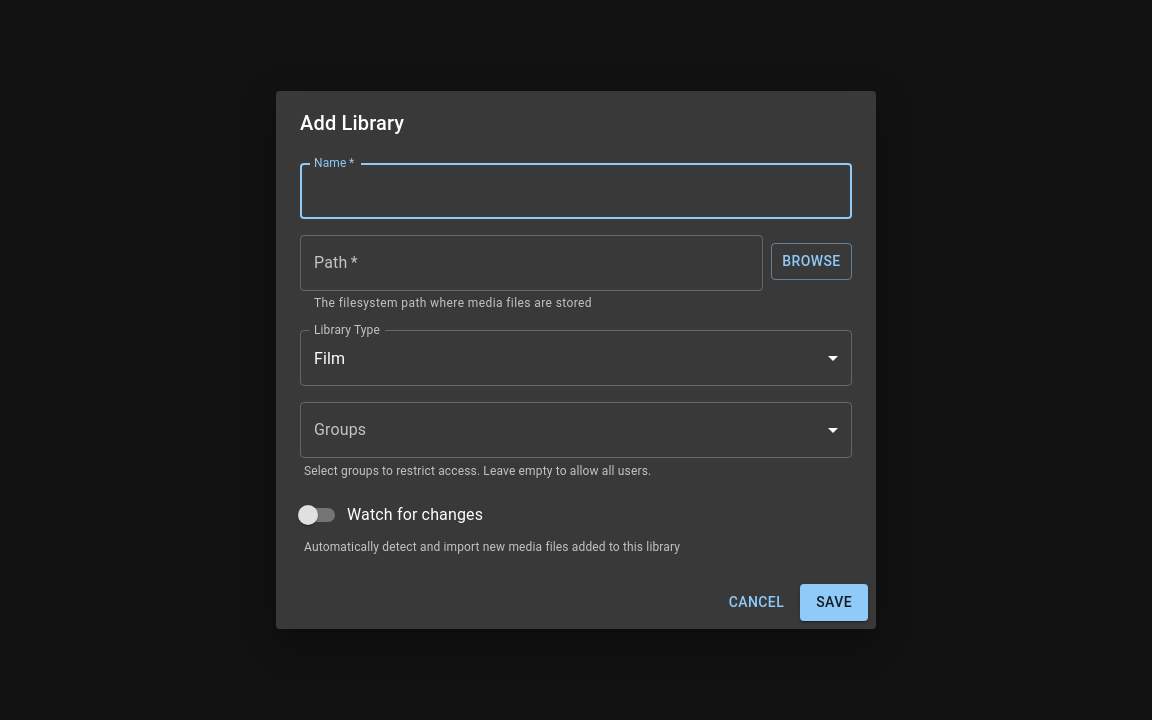
it: LibraryDialog › Create mode › shows validation error when path is empty
This screenshot has width=1152, height=720.
In the field labelled "Name *": x=576, y=191 [300,163,852,219], type "Movies"
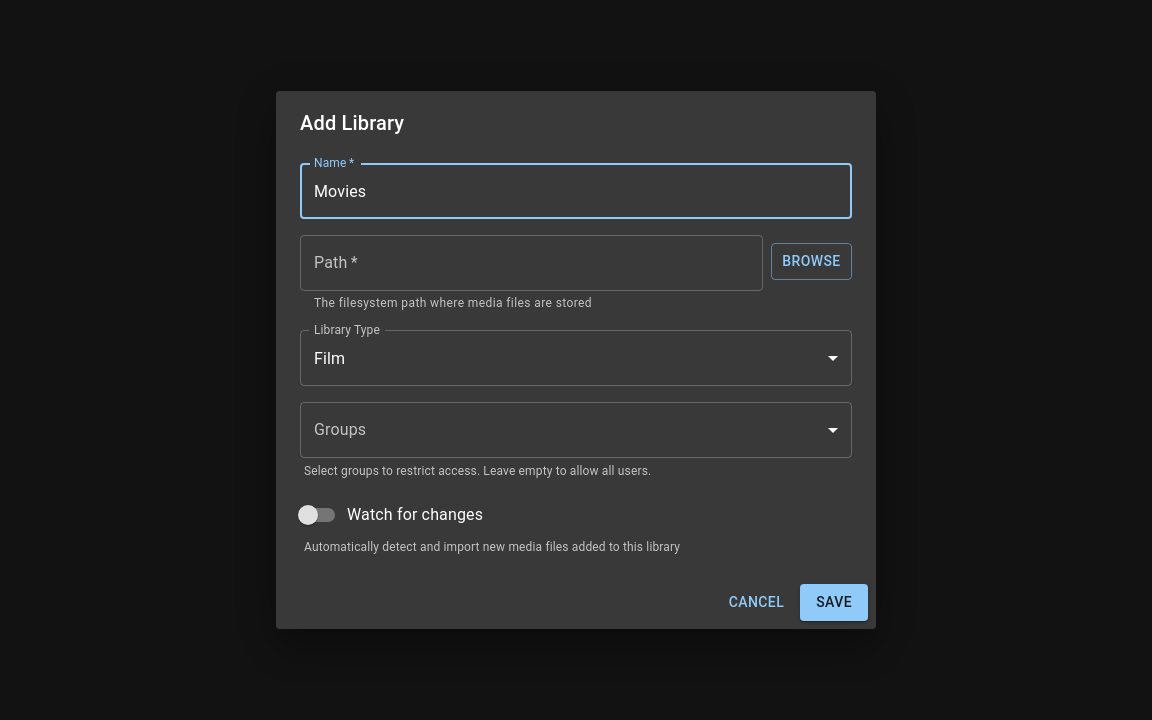
Click the button "Save": x=834, y=602 [800,584,868,621]
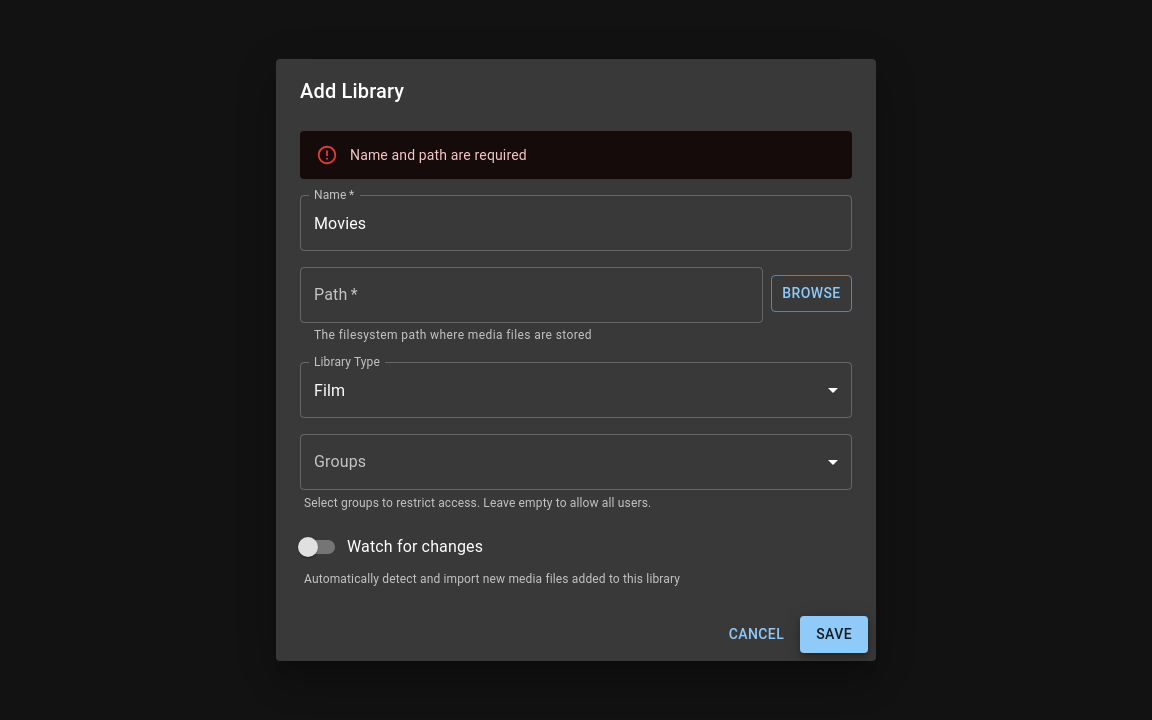
Expected: the message "Name and path are required" is shown, [300,131,852,179]
